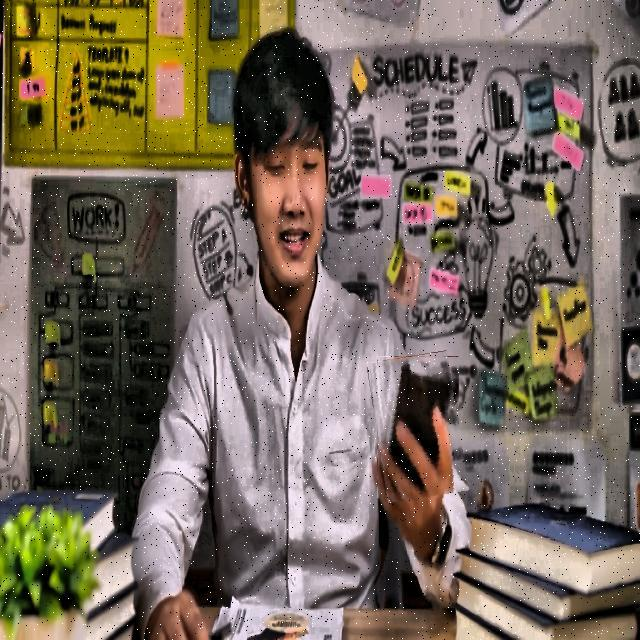Phone: (372, 354, 464, 501)
